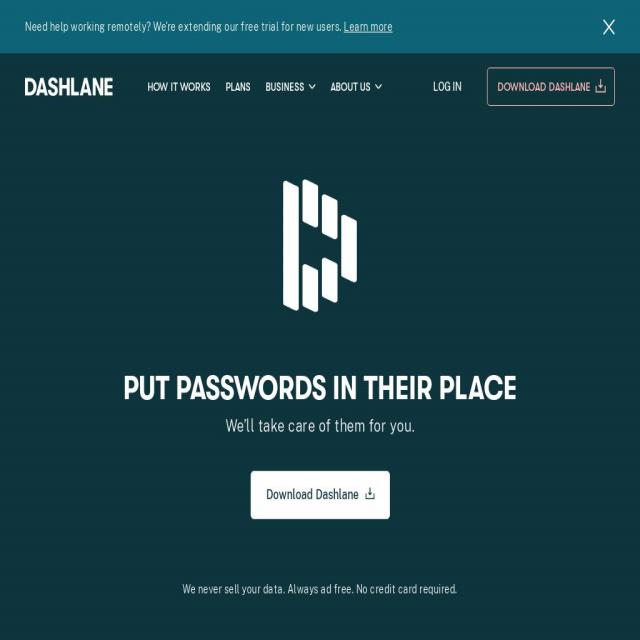download: (240, 463, 405, 530), (481, 63, 619, 115)
login-option: (428, 62, 468, 106)
navigation-links: (141, 64, 385, 108)
